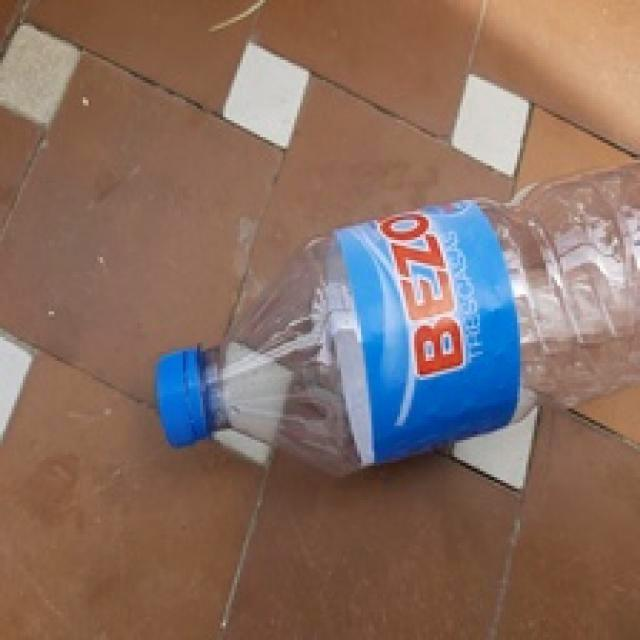bottle: (144, 157, 639, 488)
